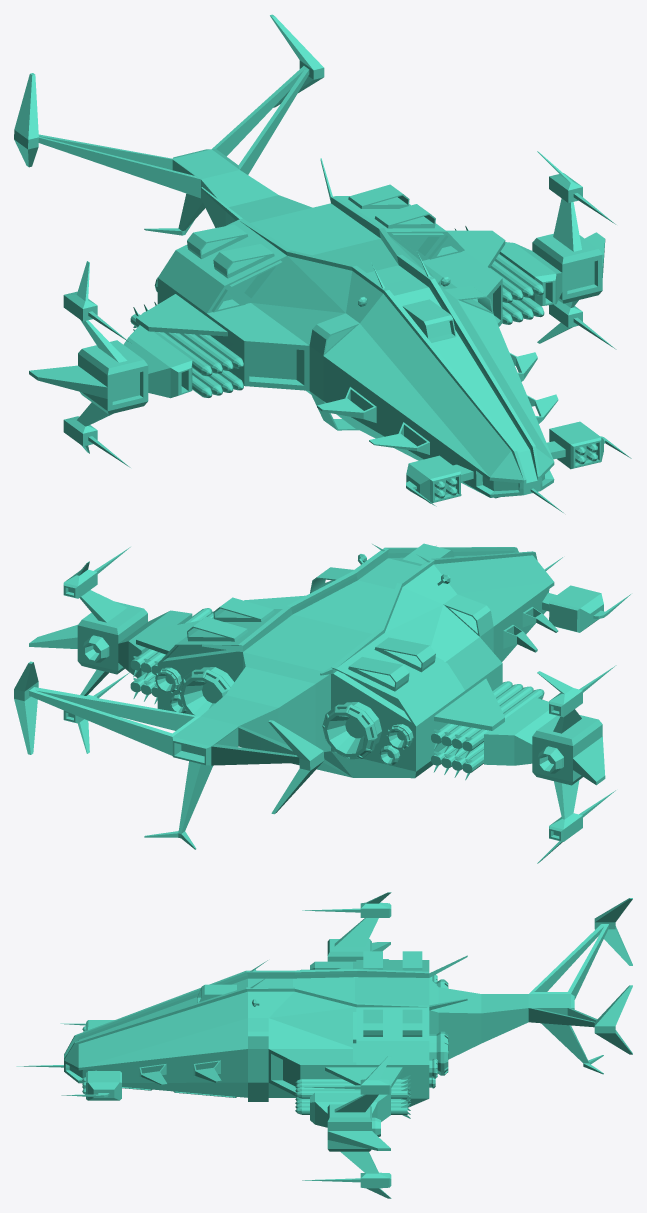
Rendered from cobra bomber revised.obj.
3 renders of one model, top to bottom at view 1: azimuth 30°, elevation 25°; view 2: azimuth 150°, elevation 25°; view 3: azimuth 270°, elevation 25°, orthographic. The views are drawn at different scales.
Visible parts, largest first — view 1: Object01; view 2: Object01; view 3: Object01.
Part boxes in pixels (x1,y1,x2,y2): Object01: (14,14,631,512); Object01: (14,543,630,863); Object01: (16,892,632,1198).
Size of the model in its own units: 61.48 by 24.26 by 77.85.
